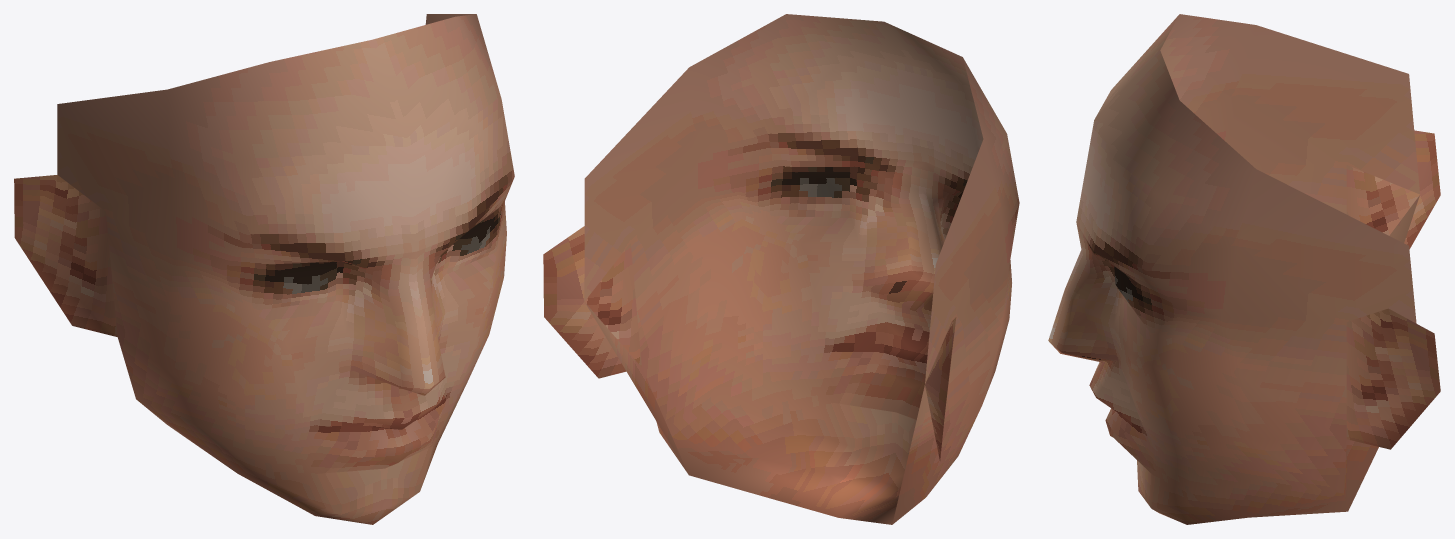
3 views of the same model, side by side, from view 1: azimuth 30°, elevation 25°; view 2: azimuth 150°, elevation 25°; view 3: azimuth 270°, elevation 25° (orthographic). The views are drawn at different scales.
Size of the model in its own units: 17.18 by 18.67 by 14.26.
Materials: 1 (1 with a texture image).
